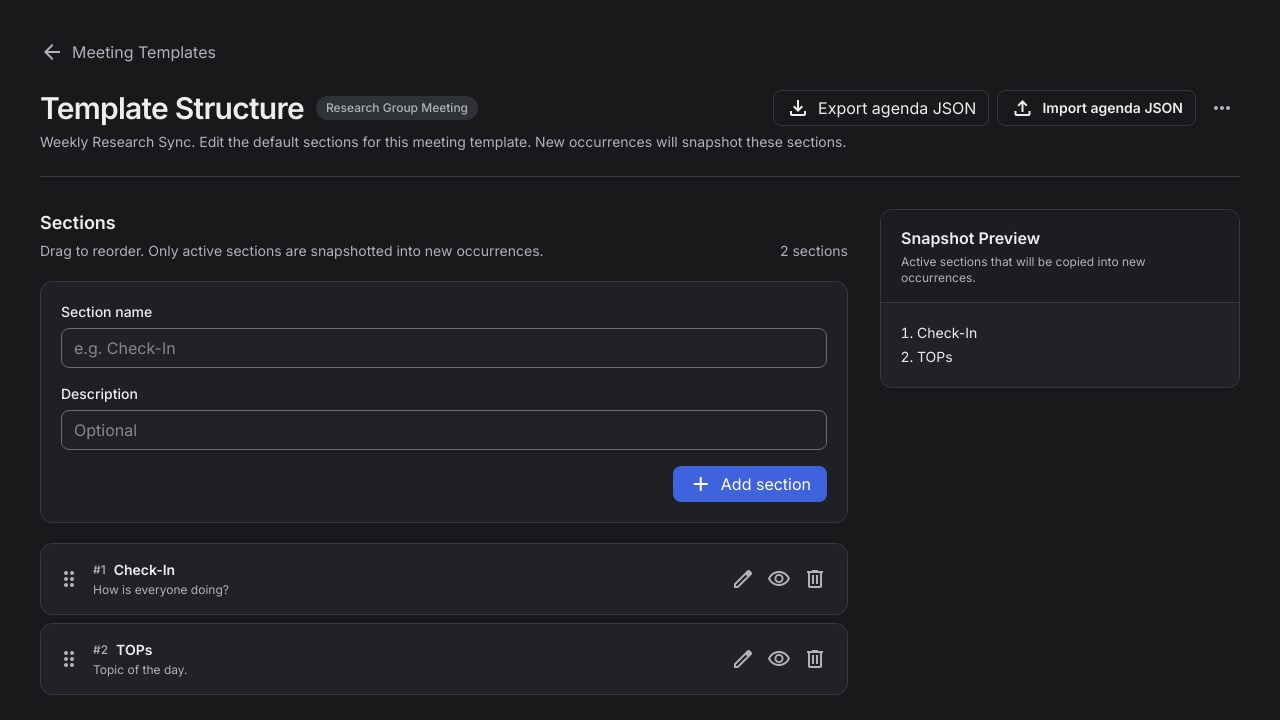
Scenario: MeetingSeriesDetailPage section deletion › cancelling performs no write and keeps the section
expect the heading "Template Structure" is shown: met, box [40,90,304,126]
Click the button named "Delete section TOPs".
click(815, 659)  # box [799,643,831,675]
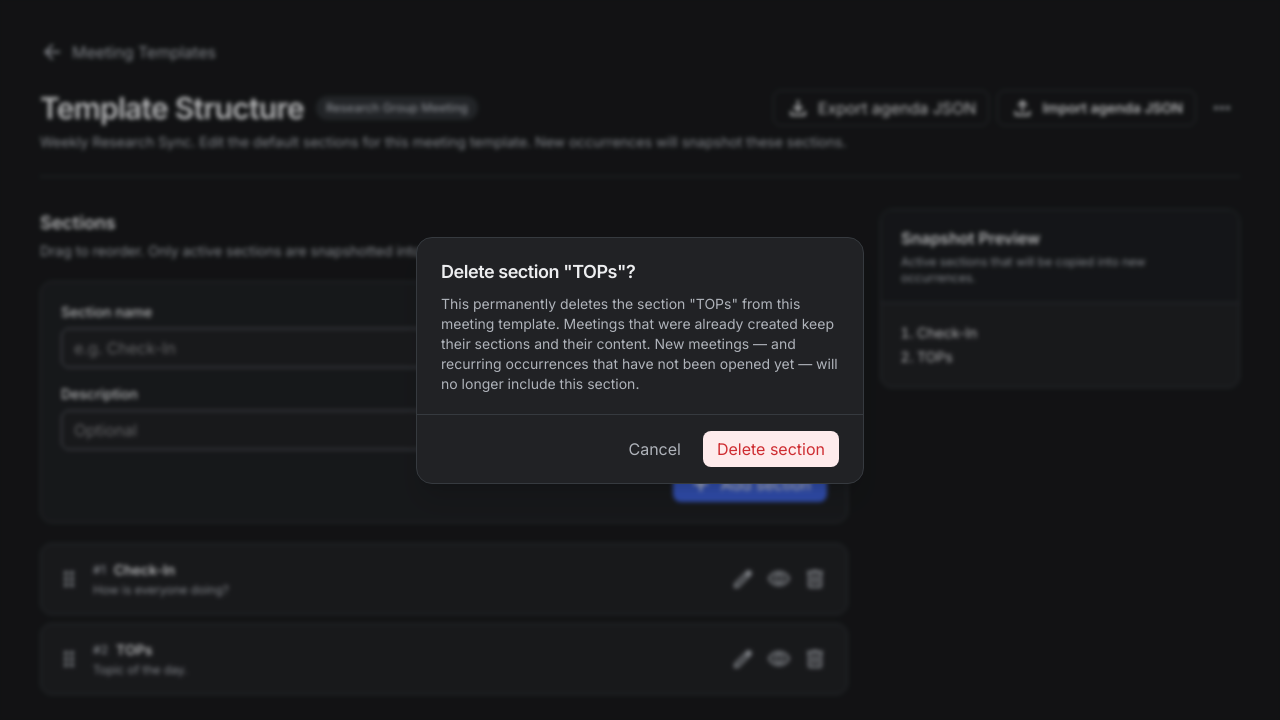
Click the button "Cancel".
click(655, 448)  # box [614,430,695,466]
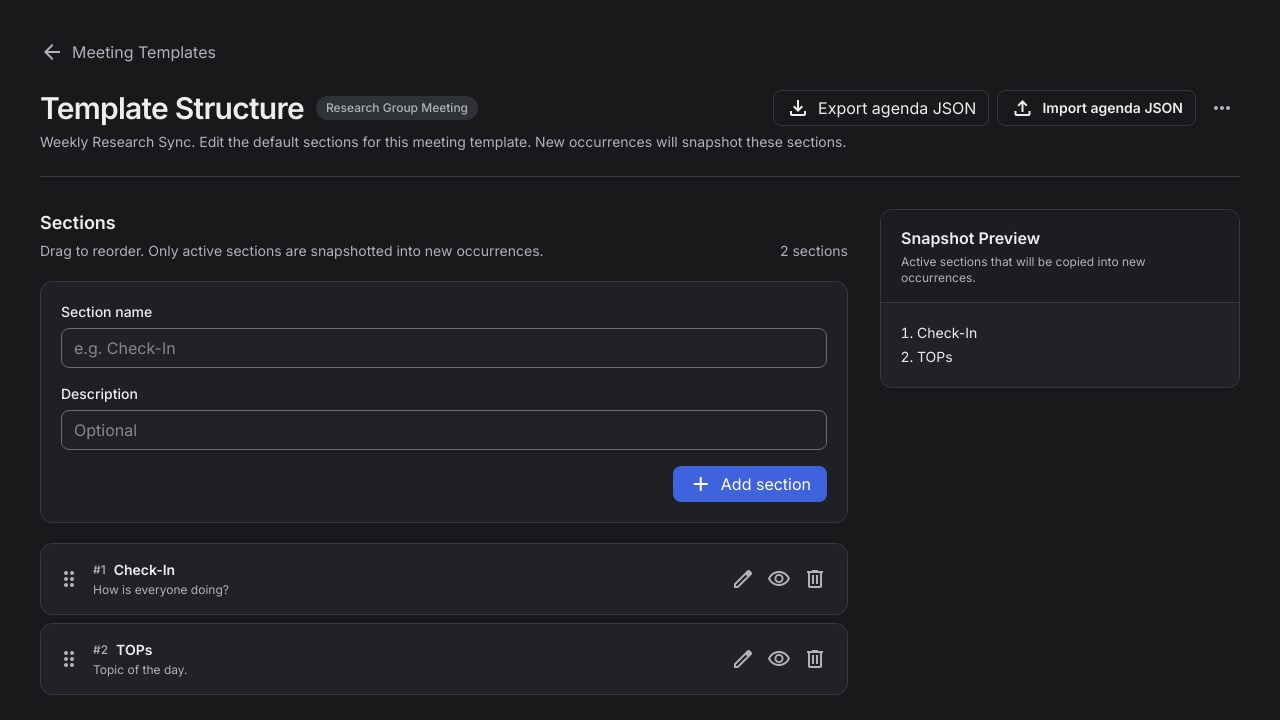
expect the button named "Delete section TOPs" is shown: met, box [799,643,831,675]
expect the heading "Delete section \"TOPs\"?" is gone: met
